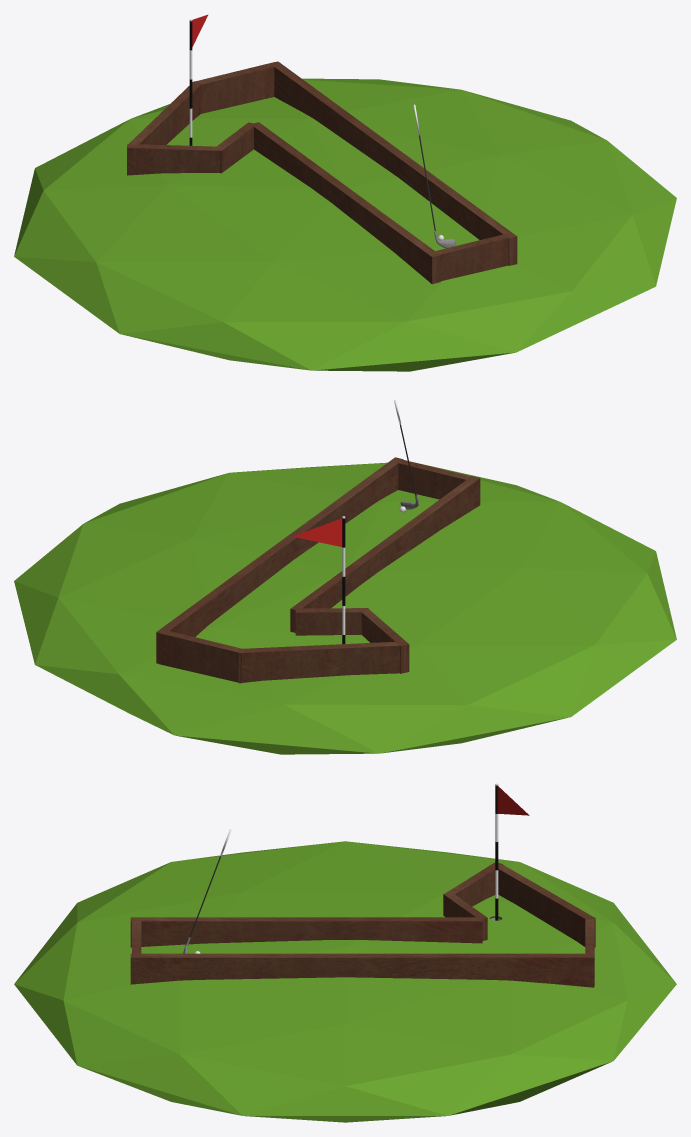
The model's file is level_1.glb.
The picture shows the model from 3 angles, top to bottom: view 1: azimuth 30°, elevation 25°; view 2: azimuth 150°, elevation 25°; view 3: azimuth 270°, elevation 25°; orthographic projection. The views are drawn at different scales.
Parts seen in each view (by area): view 1: grass, Cube.012, Cube.013, Cube.011, Cube.010, wall, Cube.009, Cube.005; view 2: grass, Cube.012, Cube.013, Cube.009, Cube.010, wall, Cube.005, Cube.011, flag; view 3: grass, Cube.012, Cube.013, Cube.009, Cube.011, Cube.005, pole.
Boxes of the visible parts, bbox=[...] form: grass: bbox=[14, 78, 676, 371]; Cube.012: bbox=[270, 61, 517, 265]; Cube.013: bbox=[252, 122, 440, 284]; Cube.011: bbox=[127, 144, 222, 175]; Cube.010: bbox=[192, 62, 279, 113]; wall: bbox=[429, 232, 511, 281]; Cube.009: bbox=[128, 81, 202, 146]; Cube.005: bbox=[215, 122, 256, 173]; grass: bbox=[14, 462, 676, 754]; Cube.012: bbox=[156, 457, 403, 663]; Cube.013: bbox=[290, 476, 480, 632]; Cube.009: bbox=[238, 641, 401, 683]; Cube.010: bbox=[159, 629, 245, 683]; wall: bbox=[391, 458, 470, 499]; Cube.005: bbox=[295, 608, 368, 635]; Cube.011: bbox=[359, 608, 409, 673]; flag: bbox=[292, 518, 342, 546]; grass: bbox=[14, 841, 676, 1122]; Cube.012: bbox=[130, 953, 594, 987]; Cube.013: bbox=[130, 917, 482, 947]; Cube.009: bbox=[494, 864, 595, 947]; Cube.011: bbox=[443, 862, 502, 915]; Cube.005: bbox=[443, 892, 487, 940]; pole: bbox=[495, 783, 498, 920].
Bounding box in the file's own units: 100 × 35.99 × 106.
Materials: 11 (1 with a texture image).
